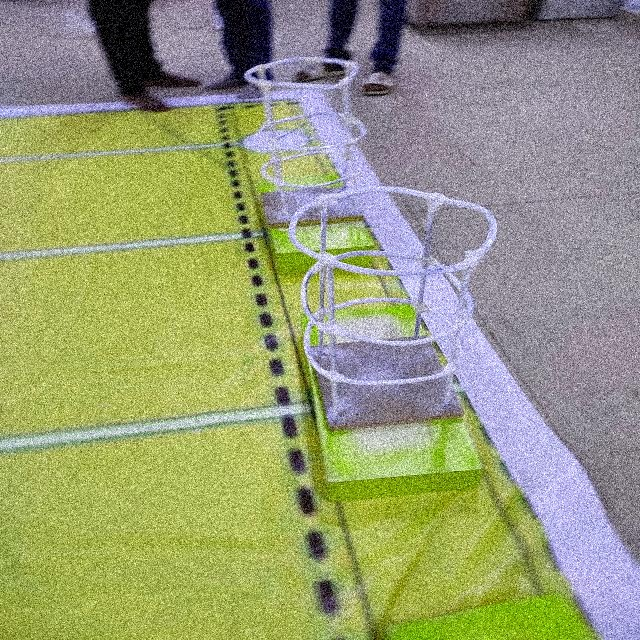silo: (260, 173, 523, 475), (218, 48, 378, 239)
